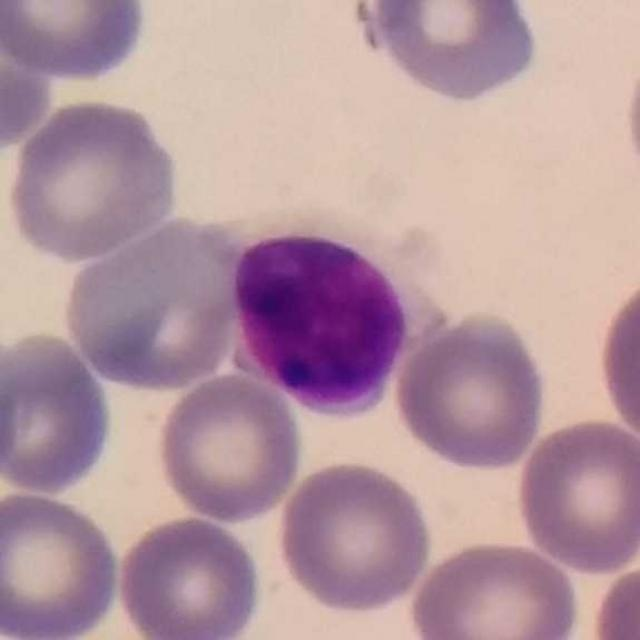Lymphocyte: (222, 189, 452, 423)
RBC: (58, 211, 249, 394), (2, 93, 183, 265), (390, 308, 551, 474), (274, 456, 435, 617), (154, 370, 305, 524), (512, 414, 640, 577), (352, 0, 544, 107), (0, 328, 116, 498), (114, 512, 267, 640), (0, 487, 123, 640), (406, 535, 583, 640), (0, 0, 151, 84), (0, 2, 57, 158), (593, 268, 640, 453), (589, 558, 640, 640), (0, 320, 24, 489)
